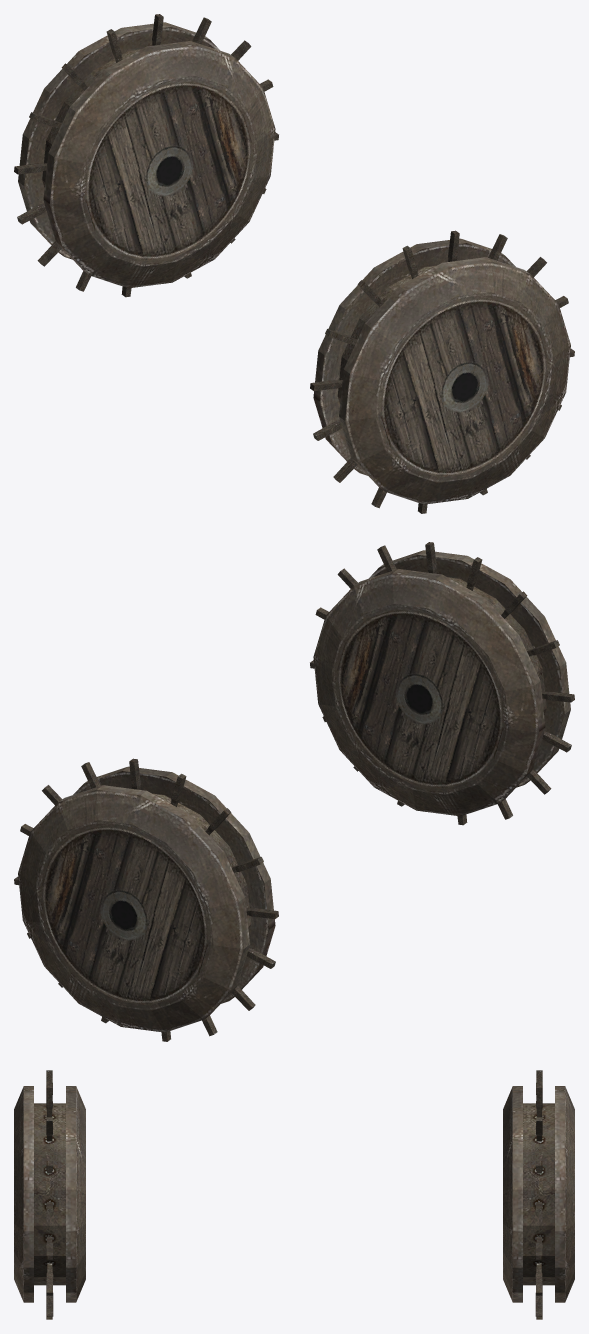
The model's file is bg_lut_lutomb_ev01d_sm_old.FBX.
3 views of the same model, one above another, from view 1: azimuth 30°, elevation 25°; view 2: azimuth 150°, elevation 25°; view 3: azimuth 270°, elevation 25° (orthographic). The views are drawn at different scales.
Parts seen in each view (by area): view 1: bg_lut_lutomb_ev01d_sm_old; view 2: bg_lut_lutomb_ev01d_sm_old; view 3: bg_lut_lutomb_ev01d_sm_old.
Boxes of the visible parts, <box> form: bg_lut_lutomb_ev01d_sm_old: <box>14,14,574,513</box>; bg_lut_lutomb_ev01d_sm_old: <box>14,542,574,1041</box>; bg_lut_lutomb_ev01d_sm_old: <box>14,1070,574,1319</box>.
Size of the model in its own units: 138 by 138 by 310.
